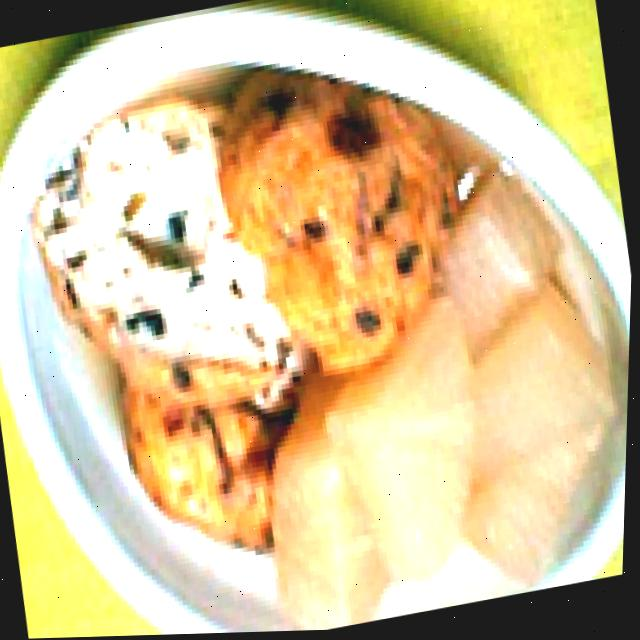熟制海鲜: (0, 25, 535, 602)
